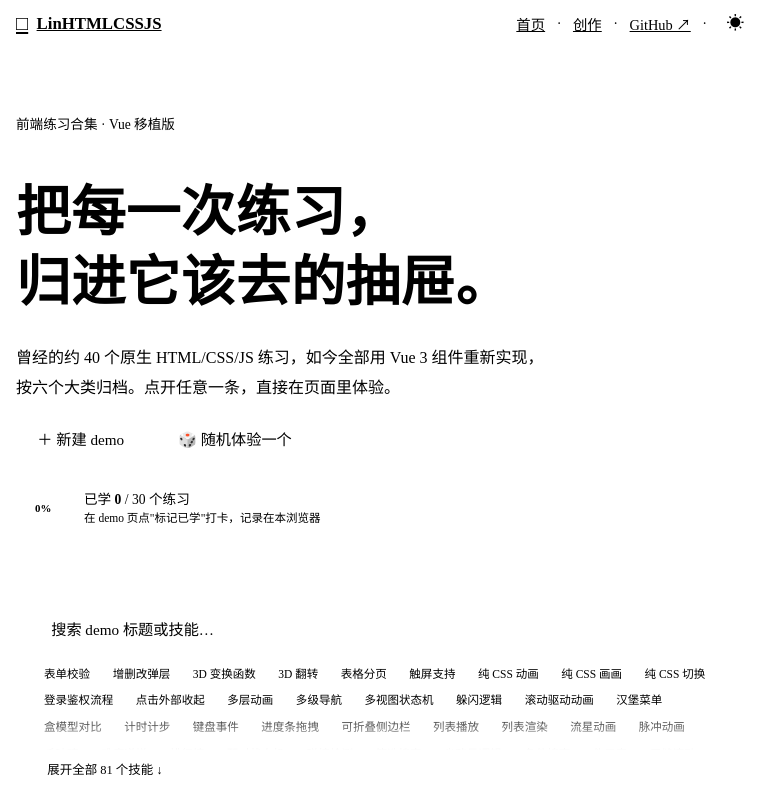
Test: HomeView 首页 › 搜索无结果时显示空态提示
In the search field with class "search-input": (384, 630) [36,612,732,649], type "不存在的关键词xyz"
(page scrolled)
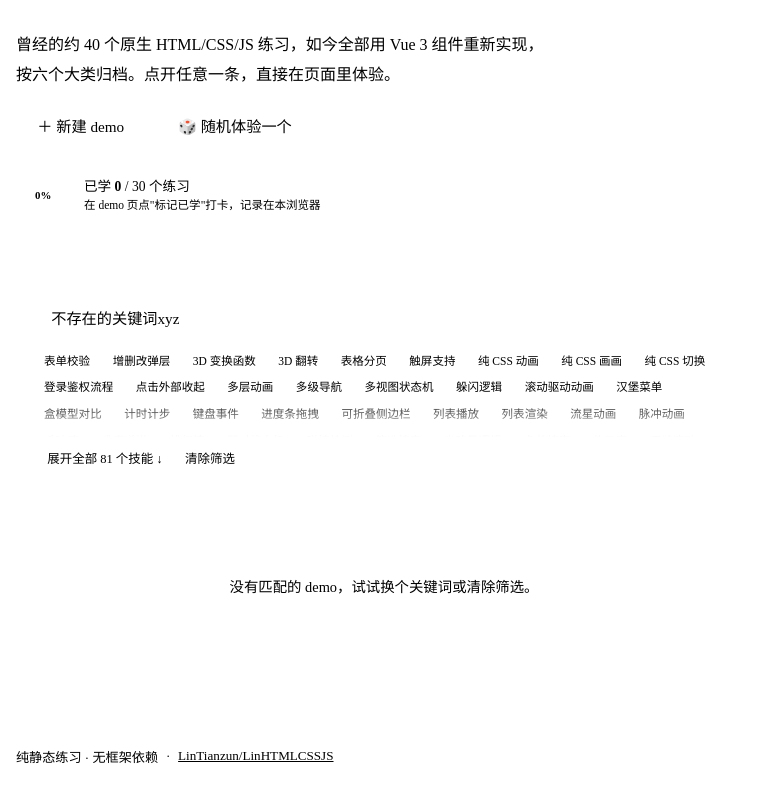
Expected: the text "没有匹配的 demo，试试换个关键词或清除筛选。" is shown, [230,579,538,595]
